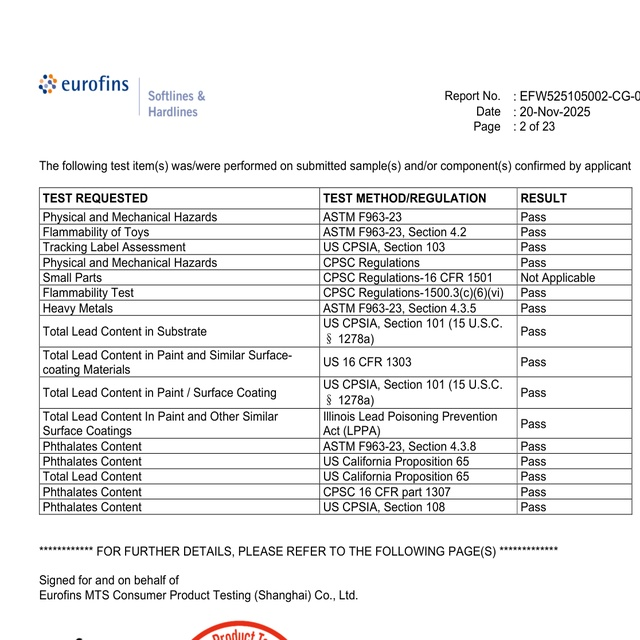eurofins: (33, 71, 134, 99)
